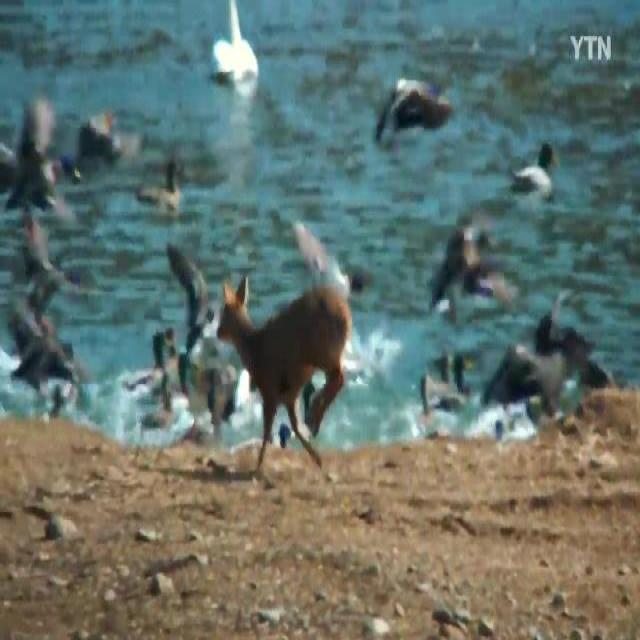deer: (217, 275, 352, 466)
